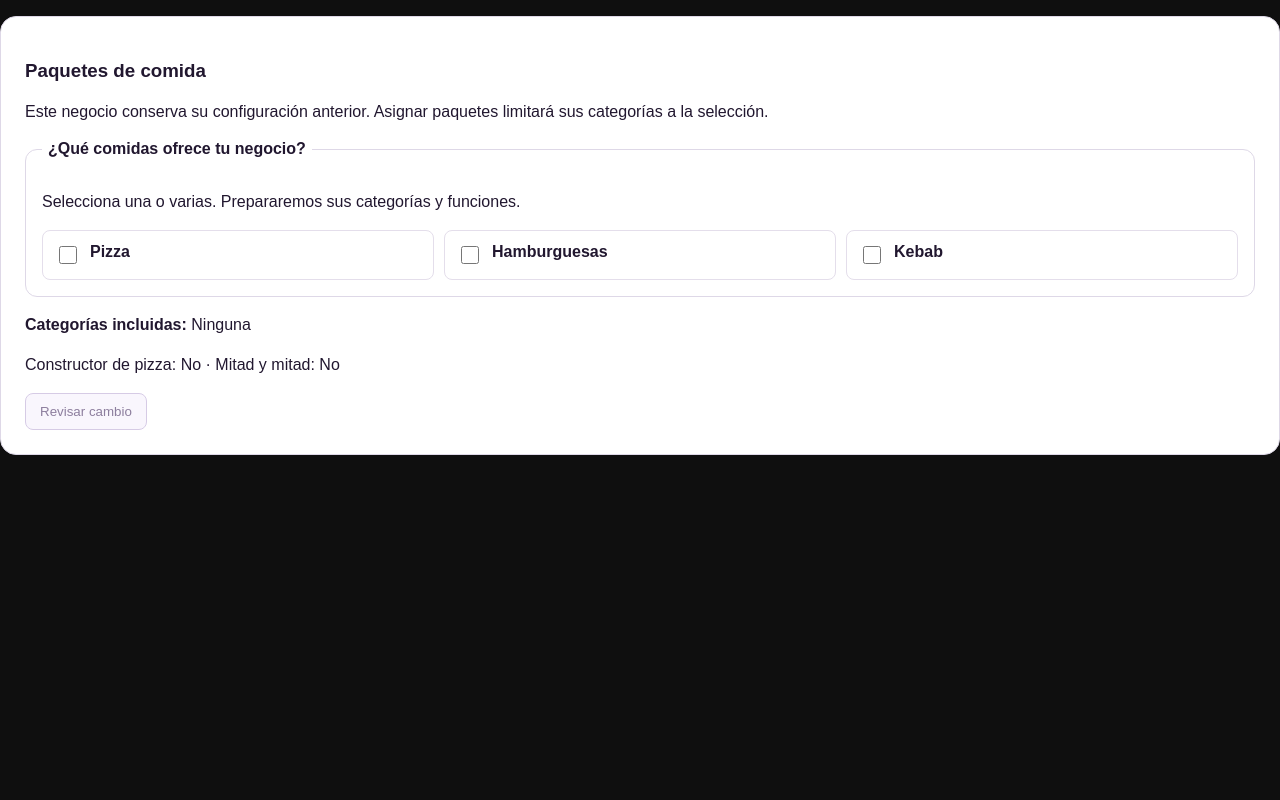
business package edits require review and send the expected snapshot on apply
The image size is (1280, 800).
Click the checkbox labelled "Hamburguesas": (470, 255) 461,246 -> 479,264
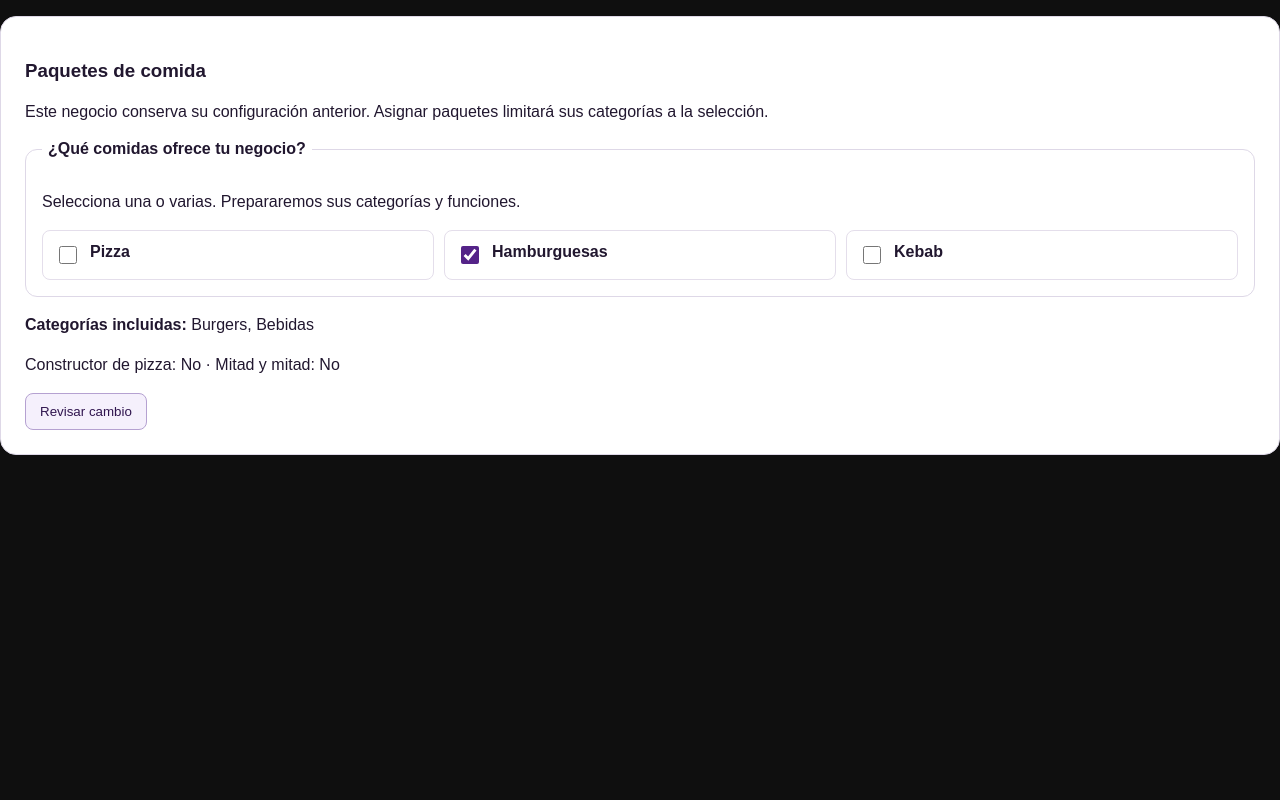
Click the checkbox labelled "Kebab": (872, 255) 863,246 -> 881,264
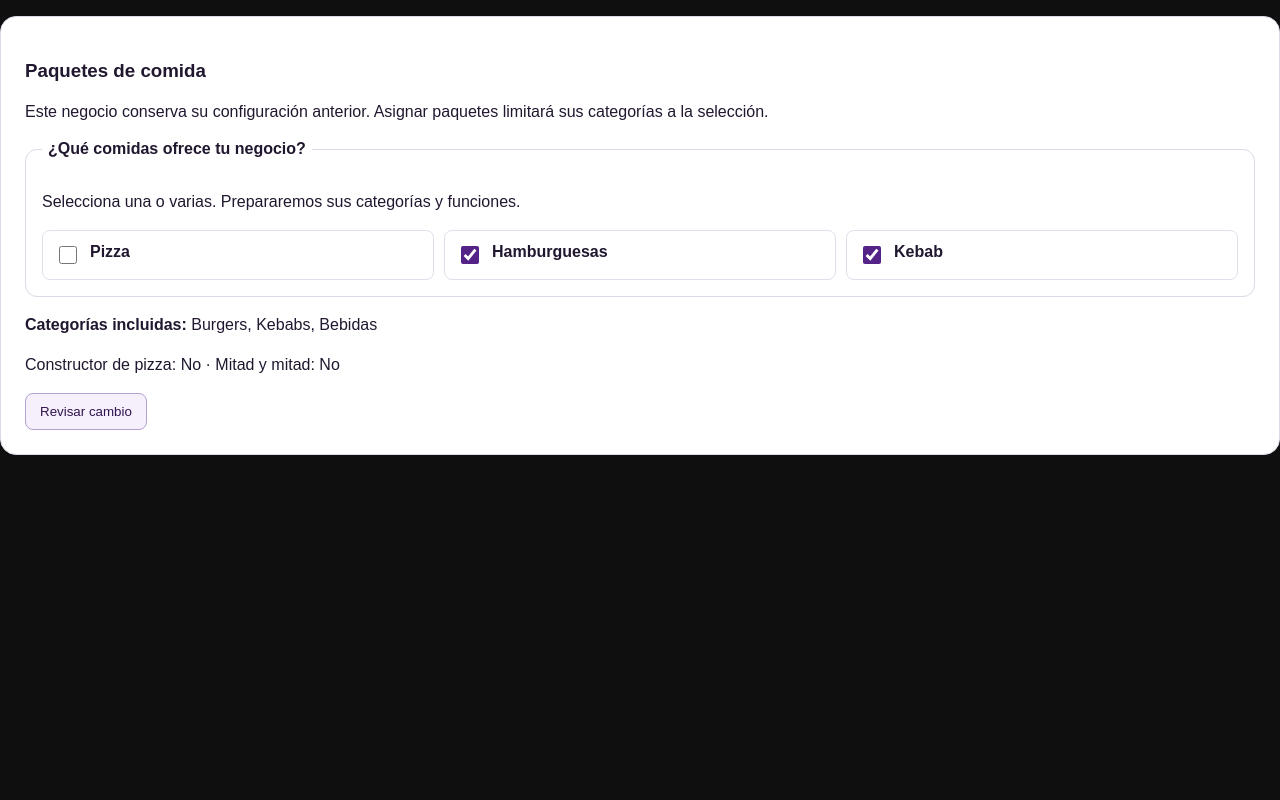
Click the button "Revisar cambio": (86, 412) 25,393 -> 147,430
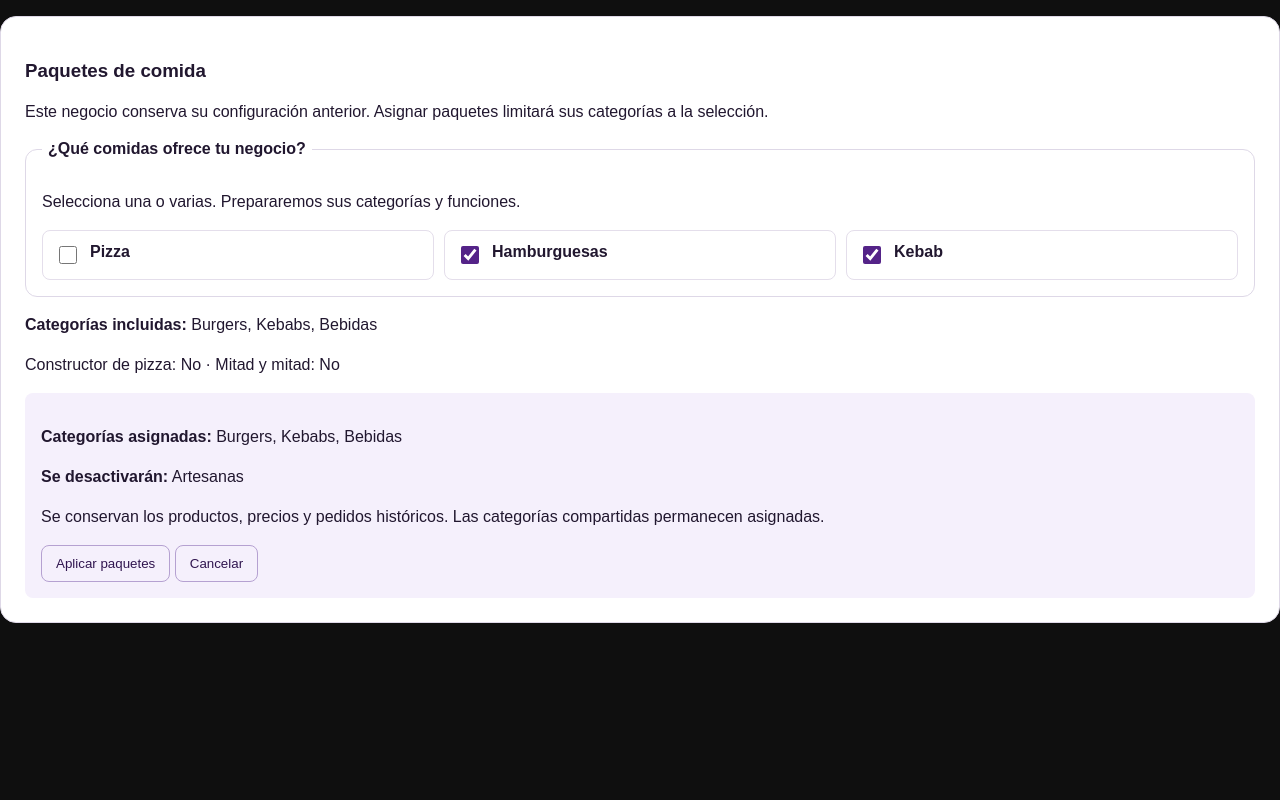
Expected: the text "Se desactivarán:" is shown, 41,468 -> 168,485
Click the button "Aplicar paquetes": (106, 564) 41,545 -> 170,582
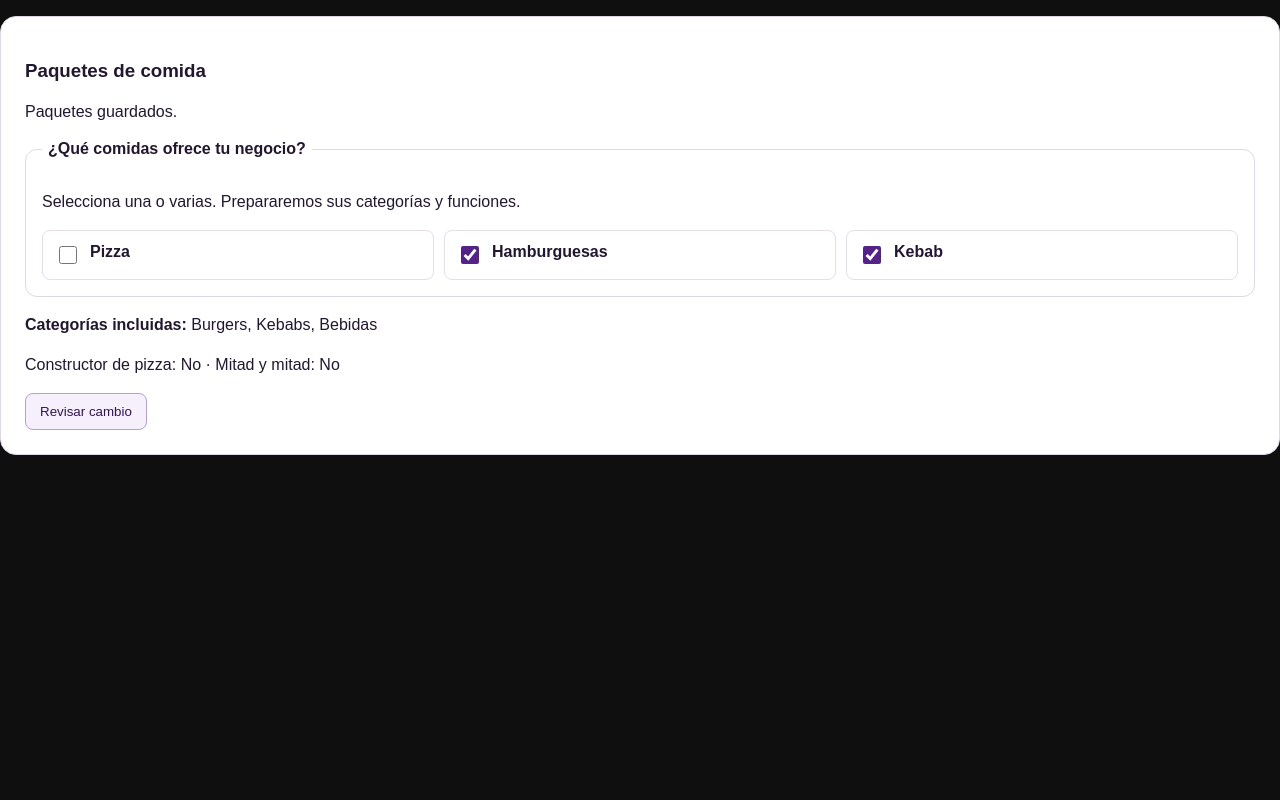
Expected: the text "Paquetes guardados." is shown, 25,103 -> 177,120
